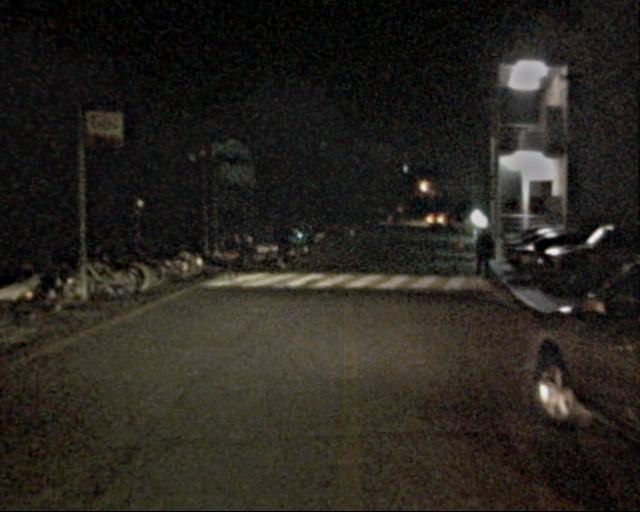person: (467, 223, 495, 291), (210, 220, 235, 280), (266, 219, 285, 265)
